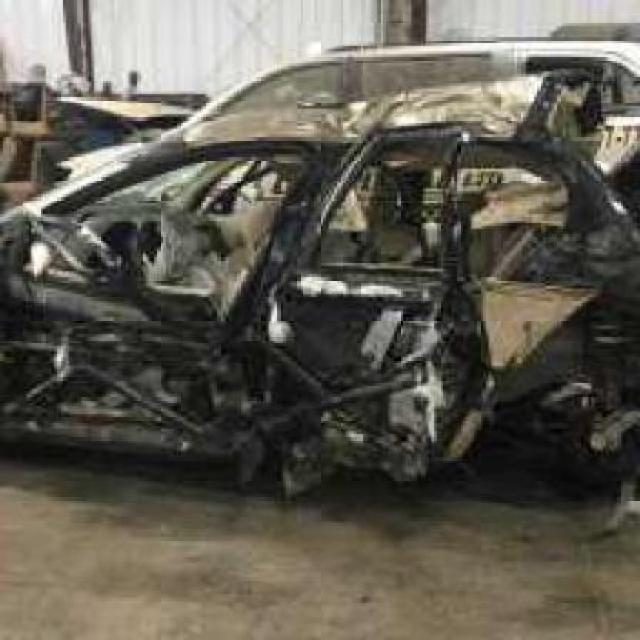damaged-door: (11, 140, 288, 468), (313, 133, 552, 478)
